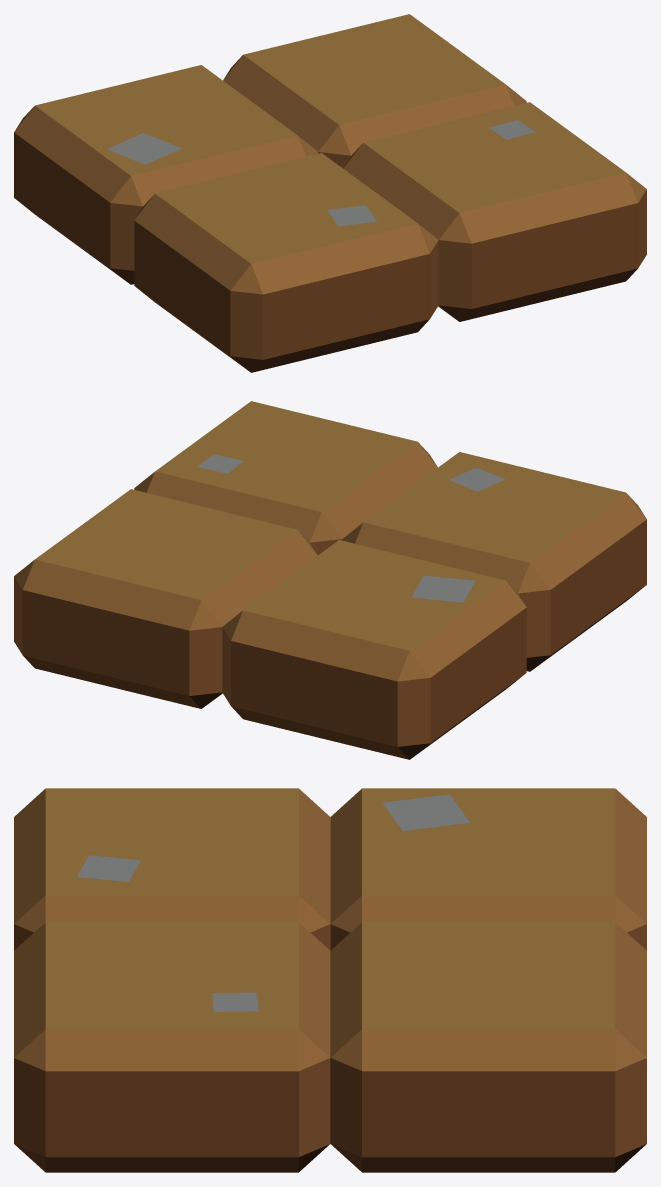
The model's file is m_kub_dirt_flatFour.FBX.
The picture shows the model from 3 angles, top to bottom: view 1: azimuth 30°, elevation 25°; view 2: azimuth 150°, elevation 25°; view 3: azimuth 270°, elevation 25°; orthographic projection. The views are drawn at different scales.
Parts seen in each view (by area): view 1: m_kub_dirt_flatFour; view 2: m_kub_dirt_flatFour; view 3: m_kub_dirt_flatFour.
Part boxes in pixels (box(x1,y1,x2,y2)): m_kub_dirt_flatFour: box(14, 14, 646, 372); m_kub_dirt_flatFour: box(14, 401, 646, 759); m_kub_dirt_flatFour: box(14, 788, 646, 1172).
Bounding box in the file's own units: 2 × 0.5 × 2.
